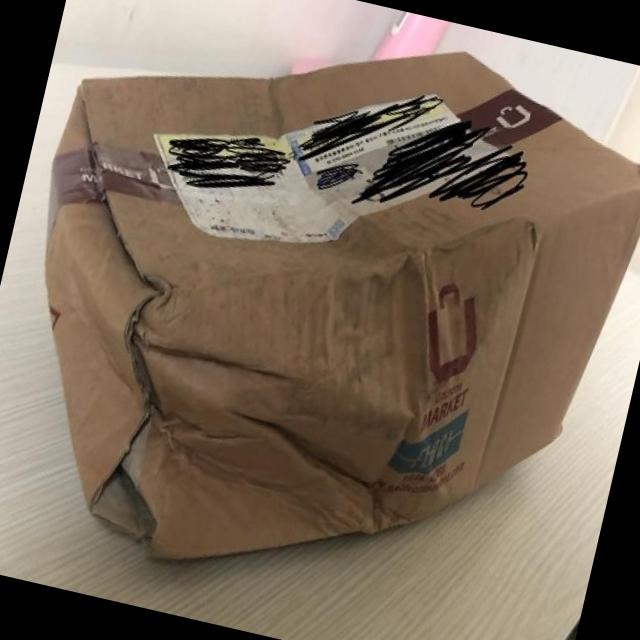box: (45, 52, 640, 565)
crushed: (45, 72, 528, 566)
tear: (83, 459, 166, 549)
